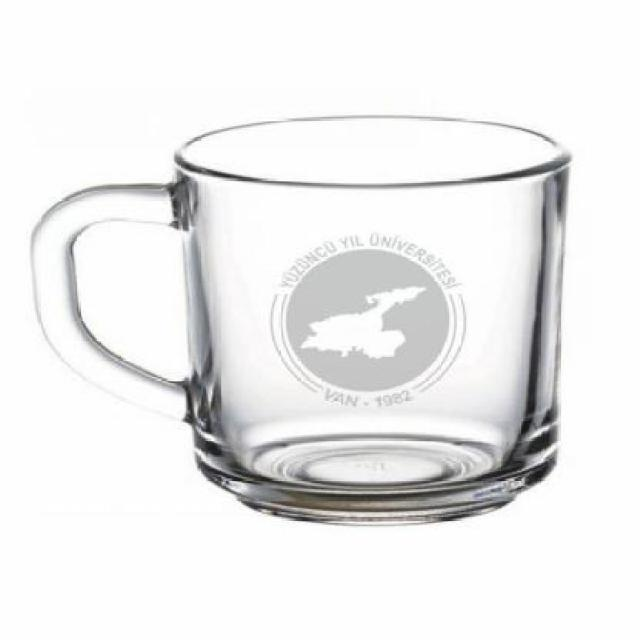taza: (36, 116, 574, 530)
